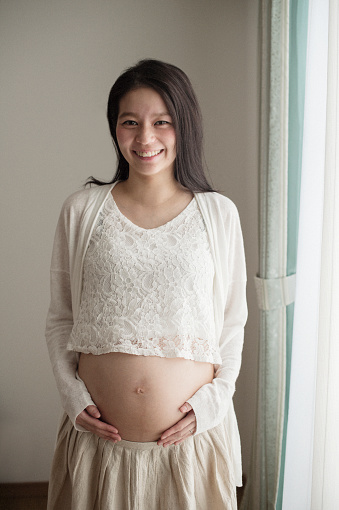em pe: (8, 57, 254, 510)
